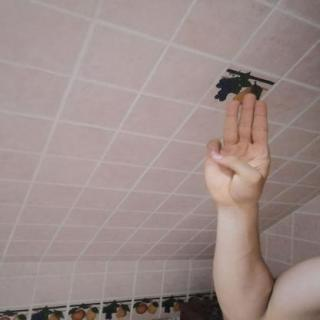THA: (195, 88, 278, 209)
